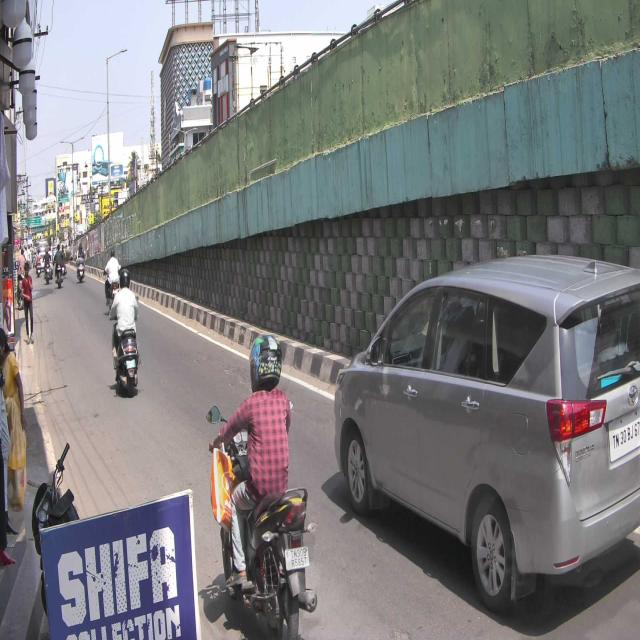single_rider: (204, 327, 318, 640)
